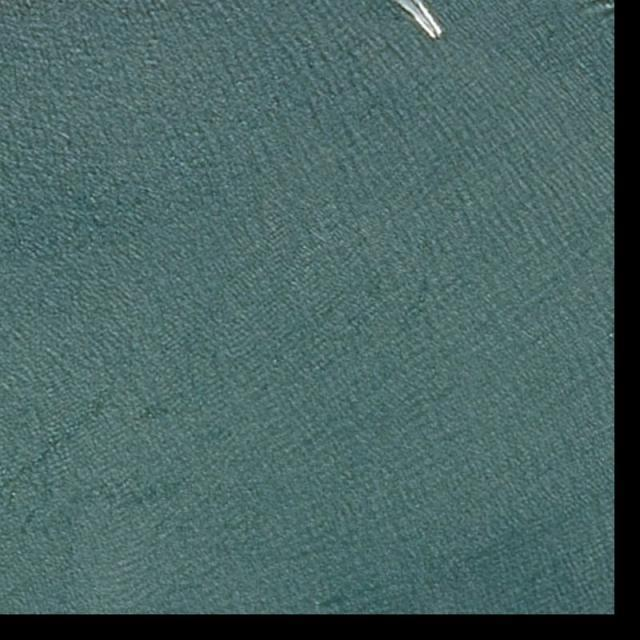ship: (433, 30, 442, 39)
